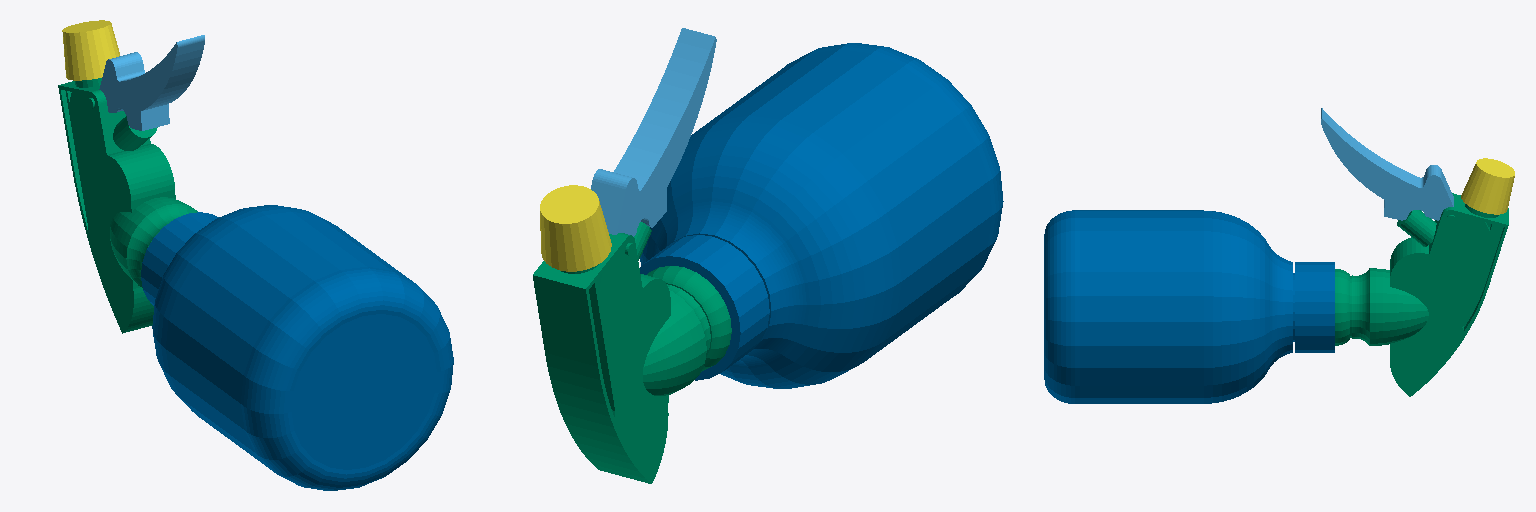
URDF robot description (partnet_367a3f80-12b1-40f7-b343-6392b40a5c7e):
<?xml version="1.0" ?>
<robot name="partnet_367a3f80-12b1-40f7-b343-6392b40a5c7e">
	<link name="base"/>
	<link name="link_0">
		<visual name="handle-4">
			<origin xyz="-0.054335210662534994 -0.7280239403027942 -0.2844975986585483"/>
			<geometry>
				<mesh filename="textured_objs/original-20.obj" scale="0.2 0.2 0.2"/>
			</geometry>
		</visual>
		<collision>
			<origin xyz="-0.054335210662534994 -0.7280239403027942 -0.2844975986585483"/>
			<geometry>
				<mesh filename="textured_objs/original-20.obj" scale="0.2 0.2 0.2"/>
			</geometry>
		</collision>
	</link>
	<joint name="joint_0" type="revolute">
		<origin xyz="0.05714642874848952 0.7280239403027942 0.32266725236327254"/>
		<axis xyz="0.9997009157424566 -3.9607804391885446e-05 0.024455622971320944"/>
		<child link="link_0"/>
		<parent link="link_1"/>
		<limit effort="100." lower="0.0" upper="0.07853981633974483" velocity="1"/>
	</joint>
	<link name="link_1">
		<visual name="head-8">
			<origin xyz="0.0028112180859545255 0 0.03816965370472426"/>
			<geometry>
				<mesh filename="textured_objs/original-19.obj" scale="0.2 0.2 0.2"/>
			</geometry>
		</visual>
		<visual name="head-8">
			<origin xyz="0.0028112180859545255 0 0.03816965370472426"/>
			<geometry>
				<mesh filename="textured_objs/original-12.obj" scale="0.2 0.2 0.2"/>
			</geometry>
		</visual>
		<visual name="head-8">
			<origin xyz="0.0028112180859545255 0 0.03816965370472426"/>
			<geometry>
				<mesh filename="textured_objs/original-17.obj" scale="0.2 0.2 0.2"/>
			</geometry>
		</visual>
		<visual name="head-8">
			<origin xyz="0.0028112180859545255 0 0.03816965370472426"/>
			<geometry>
				<mesh filename="textured_objs/original-13.obj" scale="0.2 0.2 0.2"/>
			</geometry>
		</visual>
		<visual name="head-8">
			<origin xyz="0.0028112180859545255 0 0.03816965370472426"/>
			<geometry>
				<mesh filename="textured_objs/original-10.obj" scale="0.2 0.2 0.2"/>
			</geometry>
		</visual>
		<visual name="head-8">
			<origin xyz="0.0028112180859545255 0 0.03816965370472426"/>
			<geometry>
				<mesh filename="textured_objs/original-11.obj" scale="0.2 0.2 0.2"/>
			</geometry>
		</visual>
		<visual name="head-8">
			<origin xyz="0.0028112180859545255 0 0.03816965370472426"/>
			<geometry>
				<mesh filename="textured_objs/original-9.obj" scale="0.2 0.2 0.2"/>
			</geometry>
		</visual>
		<visual name="head-8">
			<origin xyz="0.0028112180859545255 0 0.03816965370472426"/>
			<geometry>
				<mesh filename="textured_objs/original-14.obj" scale="0.2 0.2 0.2"/>
			</geometry>
		</visual>
		<visual name="head-8">
			<origin xyz="0.0028112180859545255 0 0.03816965370472426"/>
			<geometry>
				<mesh filename="textured_objs/original-8.obj" scale="0.2 0.2 0.2"/>
			</geometry>
		</visual>
		<visual name="head-8">
			<origin xyz="0.0028112180859545255 0 0.03816965370472426"/>
			<geometry>
				<mesh filename="textured_objs/original-1.obj" scale="0.2 0.2 0.2"/>
			</geometry>
		</visual>
		<visual name="head-8">
			<origin xyz="0.0028112180859545255 0 0.03816965370472426"/>
			<geometry>
				<mesh filename="textured_objs/original-4.obj" scale="0.2 0.2 0.2"/>
			</geometry>
		</visual>
		<visual name="head-8">
			<origin xyz="0.0028112180859545255 0 0.03816965370472426"/>
			<geometry>
				<mesh filename="textured_objs/original-6.obj" scale="0.2 0.2 0.2"/>
			</geometry>
		</visual>
		<collision>
			<origin xyz="0.0028112180859545255 0 0.03816965370472426"/>
			<geometry>
				<mesh filename="textured_objs/original-19.obj" scale="0.2 0.2 0.2"/>
			</geometry>
		</collision>
		<collision>
			<origin xyz="0.0028112180859545255 0 0.03816965370472426"/>
			<geometry>
				<mesh filename="textured_objs/original-12.obj" scale="0.2 0.2 0.2"/>
			</geometry>
		</collision>
		<collision>
			<origin xyz="0.0028112180859545255 0 0.03816965370472426"/>
			<geometry>
				<mesh filename="textured_objs/original-17.obj" scale="0.2 0.2 0.2"/>
			</geometry>
		</collision>
		<collision>
			<origin xyz="0.0028112180859545255 0 0.03816965370472426"/>
			<geometry>
				<mesh filename="textured_objs/original-13.obj" scale="0.2 0.2 0.2"/>
			</geometry>
		</collision>
		<collision>
			<origin xyz="0.0028112180859545255 0 0.03816965370472426"/>
			<geometry>
				<mesh filename="textured_objs/original-10.obj" scale="0.2 0.2 0.2"/>
			</geometry>
		</collision>
		<collision>
			<origin xyz="0.0028112180859545255 0 0.03816965370472426"/>
			<geometry>
				<mesh filename="textured_objs/original-11.obj" scale="0.2 0.2 0.2"/>
			</geometry>
		</collision>
		<collision>
			<origin xyz="0.0028112180859545255 0 0.03816965370472426"/>
			<geometry>
				<mesh filename="textured_objs/original-9.obj" scale="0.2 0.2 0.2"/>
			</geometry>
		</collision>
		<collision>
			<origin xyz="0.0028112180859545255 0 0.03816965370472426"/>
			<geometry>
				<mesh filename="textured_objs/original-14.obj" scale="0.2 0.2 0.2"/>
			</geometry>
		</collision>
		<collision>
			<origin xyz="0.0028112180859545255 0 0.03816965370472426"/>
			<geometry>
				<mesh filename="textured_objs/original-8.obj" scale="0.2 0.2 0.2"/>
			</geometry>
		</collision>
		<collision>
			<origin xyz="0.0028112180859545255 0 0.03816965370472426"/>
			<geometry>
				<mesh filename="textured_objs/original-1.obj" scale="0.2 0.2 0.2"/>
			</geometry>
		</collision>
		<collision>
			<origin xyz="0.0028112180859545255 0 0.03816965370472426"/>
			<geometry>
				<mesh filename="textured_objs/original-4.obj" scale="0.2 0.2 0.2"/>
			</geometry>
		</collision>
		<collision>
			<origin xyz="0.0028112180859545255 0 0.03816965370472426"/>
			<geometry>
				<mesh filename="textured_objs/original-6.obj" scale="0.2 0.2 0.2"/>
			</geometry>
		</collision>
	</link>
	<joint name="joint_1" type="fixed">
		<origin xyz="0.0 0 0.0"/>
		<axis xyz="0 1 0"/>
		<child link="link_1"/>
		<parent link="link_1_helper"/>
	</joint>
	<link name="link_2">
		<visual name="nose-7">
			<origin xyz="-0.001064310873449038 -0.6874159502580207 0.2032395897504295"/>
			<geometry>
				<mesh filename="textured_objs/original-16.obj" scale="0.2 0.2 0.2"/>
			</geometry>
		</visual>
		<collision>
			<origin xyz="-0.001064310873449038 -0.6874159502580207 0.2032395897504295"/>
			<geometry>
				<mesh filename="textured_objs/original-16.obj" scale="0.2 0.2 0.2"/>
			</geometry>
		</collision>
	</link>
	<joint name="joint_2" type="fixed">
		<origin xyz="0.0 0.0 0.0"/>
		<axis xyz="-0.023442337233413404 0.2834804731176681 0.9586914405511391"/>
		<child link="link_2"/>
		<parent link="link_2_helper"/>
	</joint>
	<link name="link_3">
		<visual name="base_body-9">
			<origin xyz="0 0 0"/>
			<geometry>
				<mesh filename="textured_objs/original-3.obj" scale="0.2 0.2 0.2"/>
			</geometry>
		</visual>
		<visual name="base_body-9">
			<origin xyz="0 0 0"/>
			<geometry>
				<mesh filename="textured_objs/original-2.obj" scale="0.2 0.2 0.2"/>
			</geometry>
		</visual>
		<visual name="base_body-9">
			<origin xyz="0 0 0"/>
			<geometry>
				<mesh filename="textured_objs/original-5.obj" scale="0.2 0.2 0.2"/>
			</geometry>
		</visual>
		<collision>
			<origin xyz="0 0 0"/>
			<geometry>
				<mesh filename="textured_objs/original-3.obj" scale="0.2 0.2 0.2"/>
			</geometry>
		</collision>
		<collision>
			<origin xyz="0 0 0"/>
			<geometry>
				<mesh filename="textured_objs/original-2.obj" scale="0.2 0.2 0.2"/>
			</geometry>
		</collision>
		<collision>
			<origin xyz="0 0 0"/>
			<geometry>
				<mesh filename="textured_objs/original-5.obj" scale="0.2 0.2 0.2"/>
			</geometry>
		</collision>
	</link>
	<joint name="joint_3" type="fixed">
		<!-- <origin rpy="1.570796326794897 0 -1.570796326794897" xyz="0 0 0"/> -->
		<origin rpy="0 0 0" xyz="0 0 0"/>
		<child link="link_3"/>
		<parent link="base"/>
	</joint>
	<link name="link_1_helper"/>
	<joint name="joint_4" type="fixed">
		<origin xyz="-0.0028112180859545255 0 -0.03816965370472426"/>
		<axis xyz="0 1 0"/>
		<child link="link_1_helper"/>
		<parent link="link_3"/>
		<limit lower="0" upper="0.01" effort="0.1" velocity="0.001"/>
	</joint>
	<link name="link_2_helper"/>
	<joint name="joint_5" type="fixed">
		<origin xyz="0.0038755289594035636 0.6874159502580207 -0.16506993604570525"/>
		<axis xyz="-0.023442337233413404 0.2834804731176681 0.9586914405511391"/>
		<child link="link_2_helper"/>
		<parent link="link_1"/>
		<limit lower="-0.0040000000000000036" upper="0" effort="0.1" velocity="0.001"/>
	</joint>
</robot>

--- What the picture shows (computed from the rendered views, not written in the file) ---
Views: 3 orthographic renders of the robot side by side, from view 1: azimuth 30°, elevation 25°; view 2: azimuth 150°, elevation 25°; view 3: azimuth 270°, elevation 25°.
Robot: partnet_367a3f80-12b1-40f7-b343-6392b40a5c7e — 7 links, 6 joints (1 revolute, 5 fixed); root link base; default pose: every joint at zero.
Links seen in each view (by area): view 1: link_3, link_1, link_0, link_2; view 2: link_3, link_1, link_0, link_2; view 3: link_3, link_1, link_0, link_2.
Link boxes in pixels (x1,y1,x2,y2): link_3: [141, 205, 453, 490]; link_1: [58, 78, 197, 333]; link_0: [99, 35, 204, 130]; link_2: [62, 20, 119, 80]; link_3: [640, 43, 1003, 388]; link_1: [533, 222, 731, 483]; link_0: [591, 28, 716, 236]; link_2: [540, 185, 611, 271]; link_3: [1044, 210, 1334, 403]; link_1: [1335, 193, 1508, 396]; link_0: [1321, 108, 1453, 220]; link_2: [1461, 158, 1514, 214].
Bounding box of the posed robot: 0.1255 × 0.3028 × 0.199 m (x, y, z).
17 mesh visuals loaded from 17 distinct referenced files (17 OBJ).
